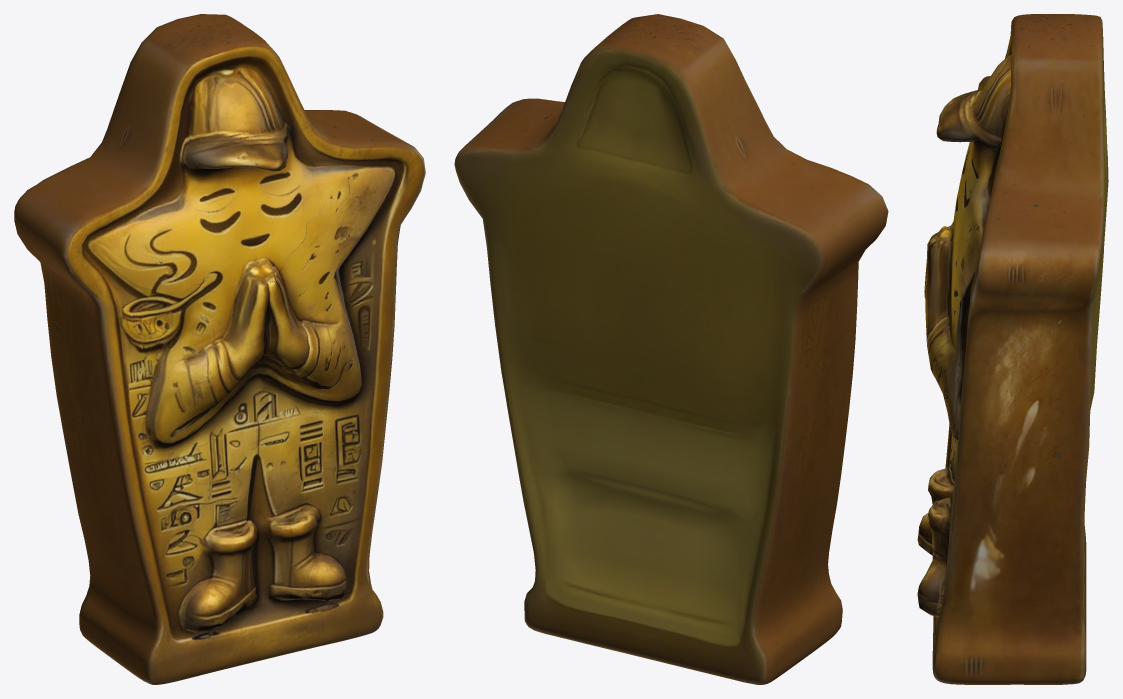
The model's file is tomb.glb.
3 renders of one model, left to right at view 1: azimuth 30°, elevation 25°; view 2: azimuth 150°, elevation 25°; view 3: azimuth 270°, elevation 25°, orthographic. The views are drawn at different scales.
Parts seen in each view (by area): view 1: Mesh0; view 2: Mesh0; view 3: Mesh0.
Boxes of the visible parts, <box> form: Mesh0: <box>14,14,425,684</box>; Mesh0: <box>454,14,888,684</box>; Mesh0: <box>917,14,1108,684</box>.
Bounding box in the file's own units: 1.23 × 1.91 × 0.5467.
1 material, 1 textured.
